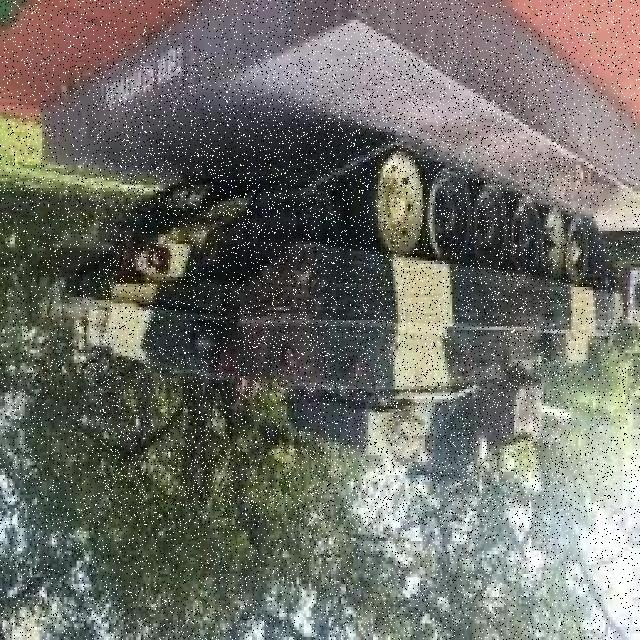MIL_MBT: (95, 58, 567, 523)
